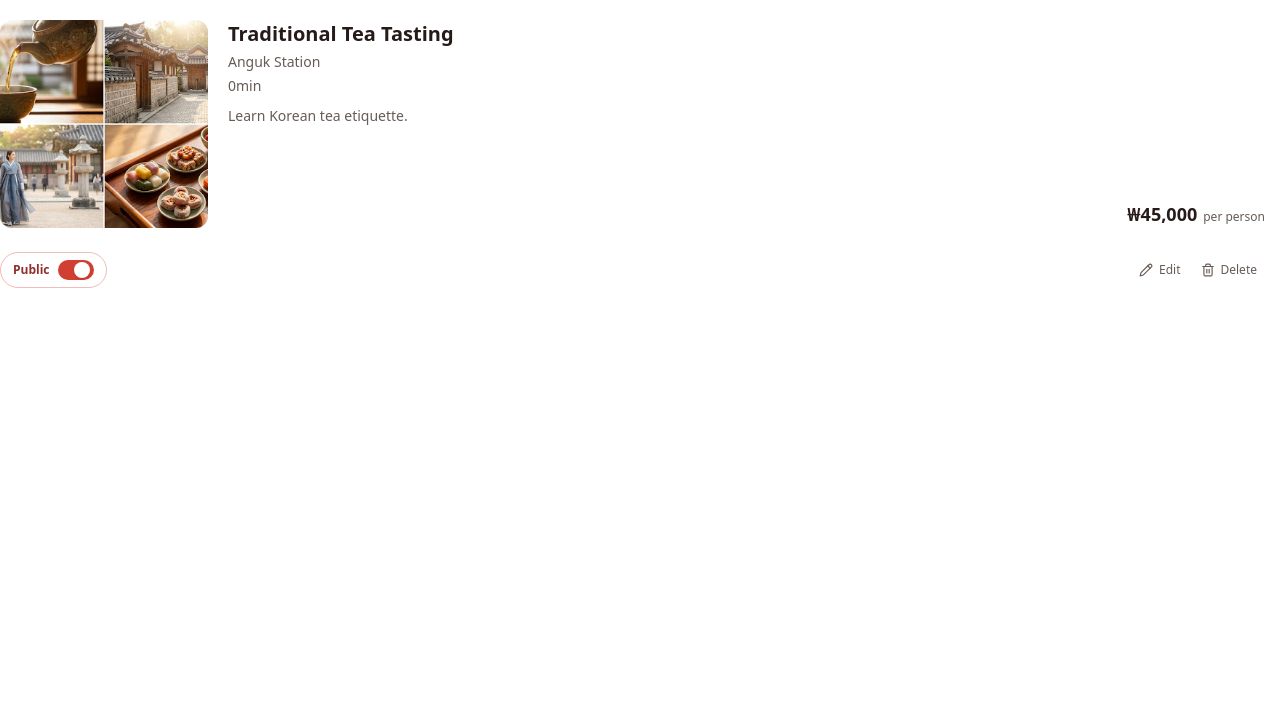
it: MyActivitiesContent › keeps the active card unchanged when unfinished reservations block hiding
Step 1. Click the switch named "Make Traditional Tea Tasting private" → [53, 270], box [0,252,106,288]
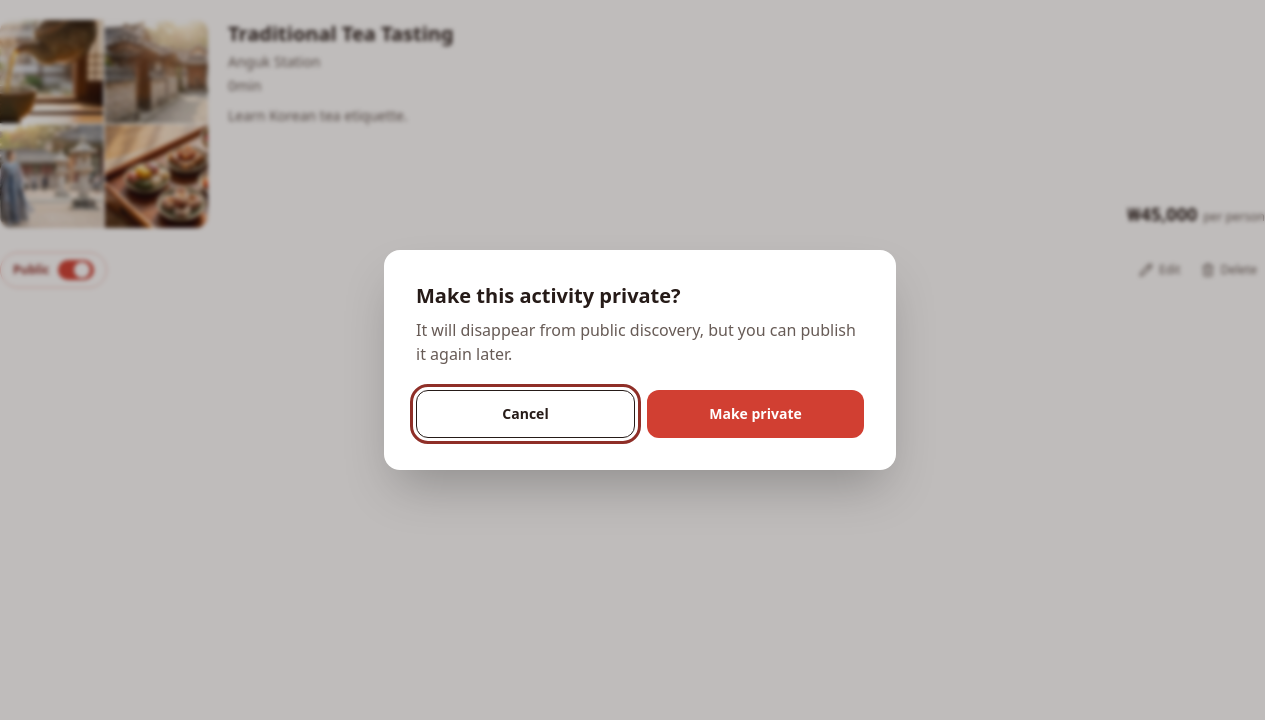
Step 2. Click the button "Make private" → [756, 414], box [647,390,864,438]
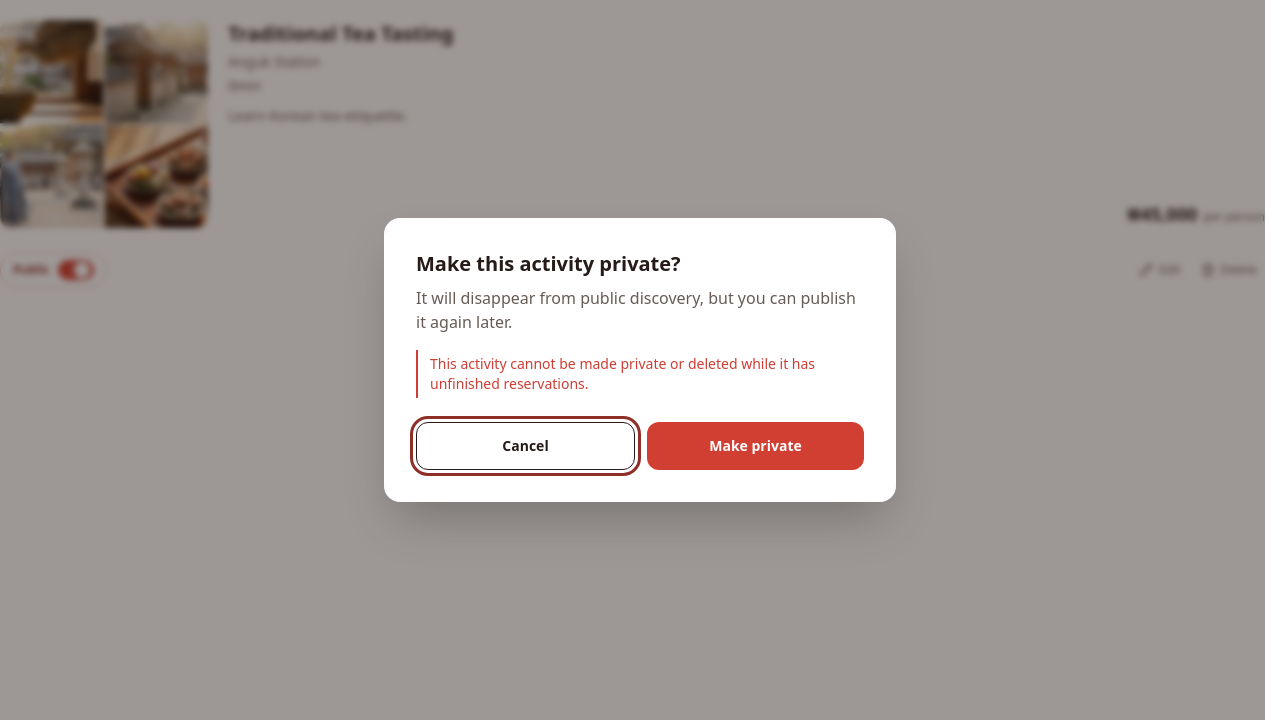
Expected: the text "Public" is shown, [13,262,50,278]
Expected: the message shows "This activity cannot be made private or deleted while it has unfinished reservations.", [430,354,815,393]
